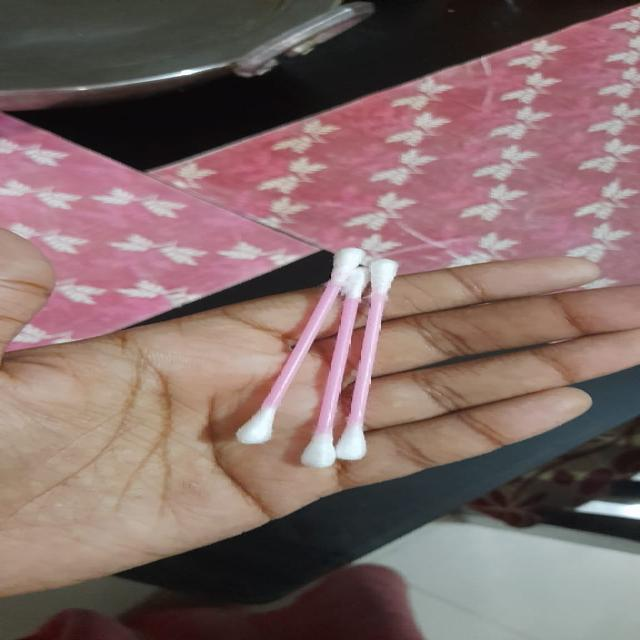Earbud - Non Recyclable: (231, 246, 402, 468)
